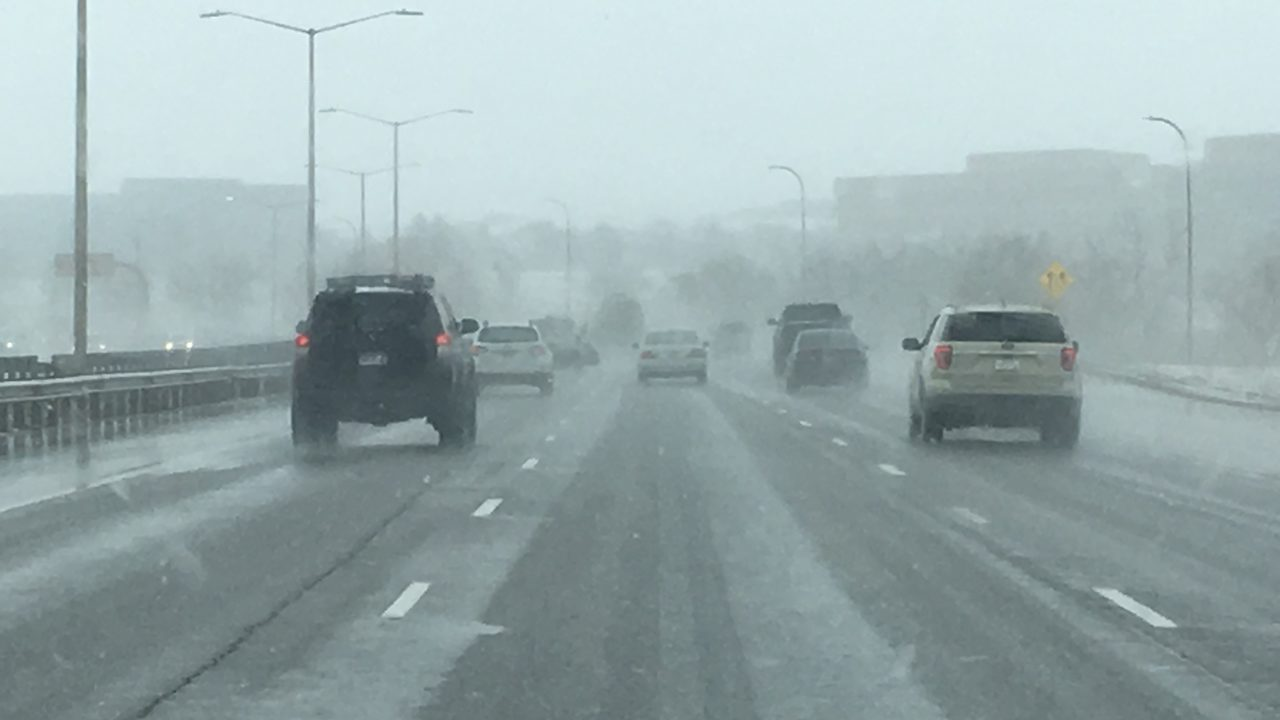car: (287, 273, 474, 452), (905, 302, 1083, 450), (770, 307, 859, 390), (474, 323, 554, 393), (785, 326, 866, 393), (635, 329, 707, 384), (712, 318, 752, 358)
